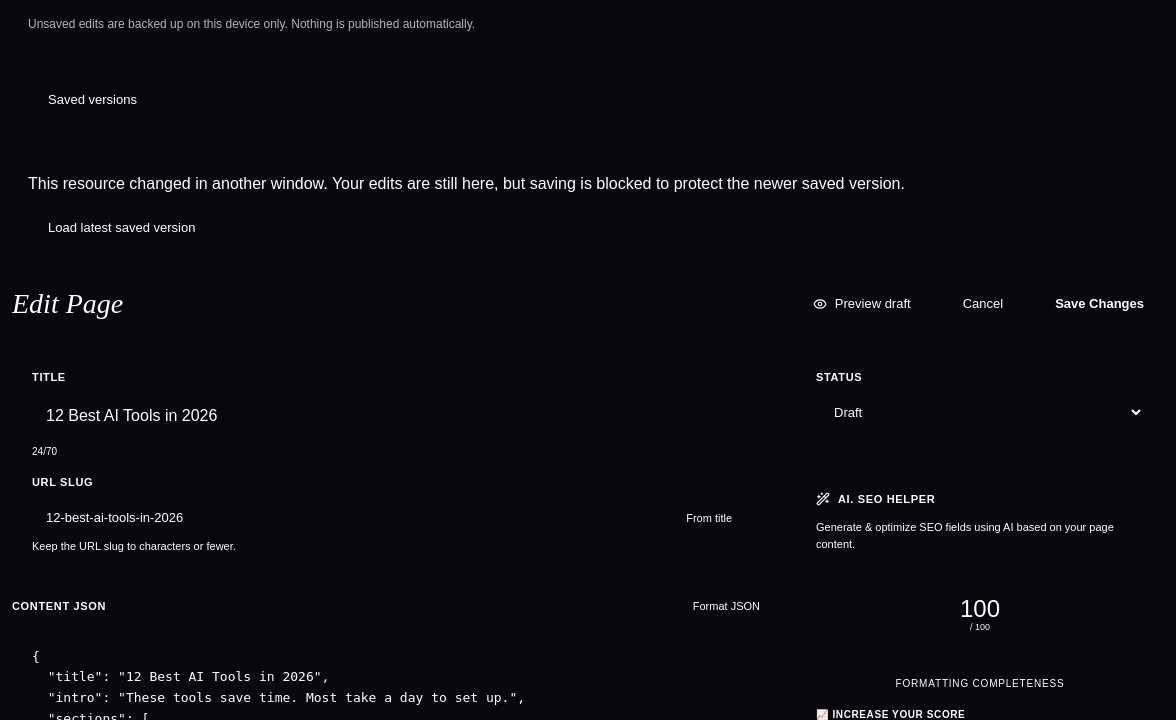
Test: GeneratedPageEditor › loads a new baseline only after the editor explicitly discards local edits
expect the field showing "12 Best AI Tools in 2026" is shown: met, box [32,394,752,438]
Click the button "Load latest saved version". click: click(122, 227)
box: [28,208,215,247]
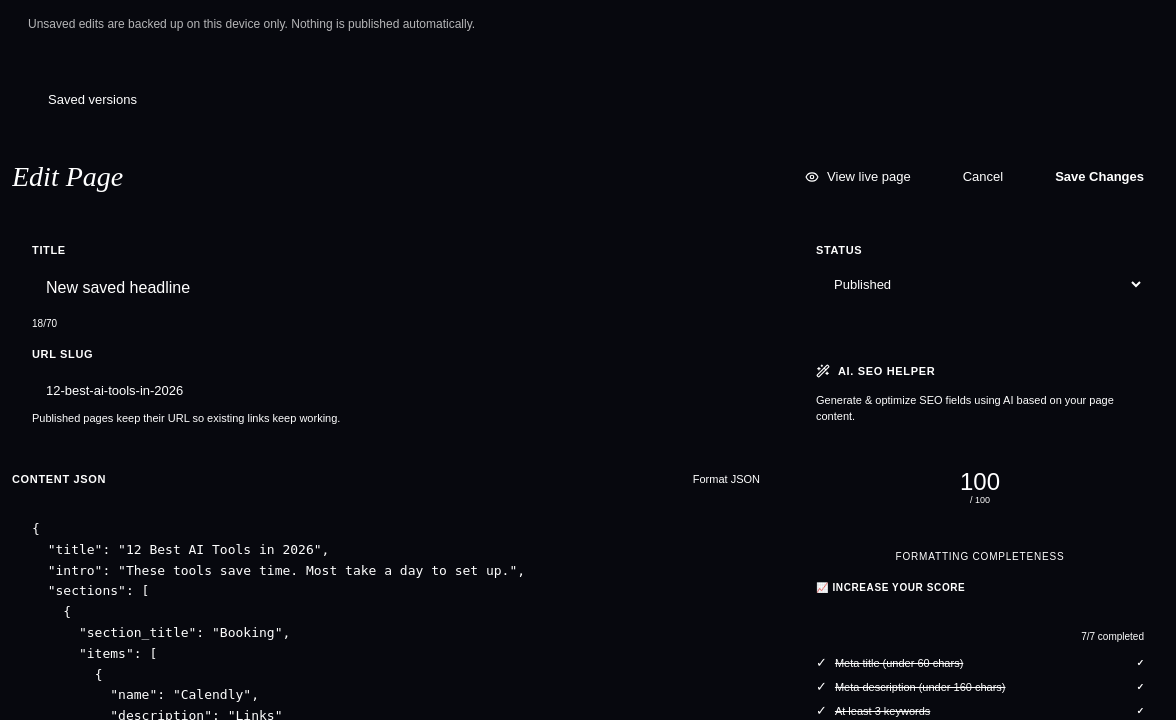
expect the field showing "New saved headline" is shown: met, box [32,266,752,310]
expect the dropdown labelled "Status" shows "Published": met, box [816,266,1144,303]
expect the text "This resource changed in another window" is gone: met
